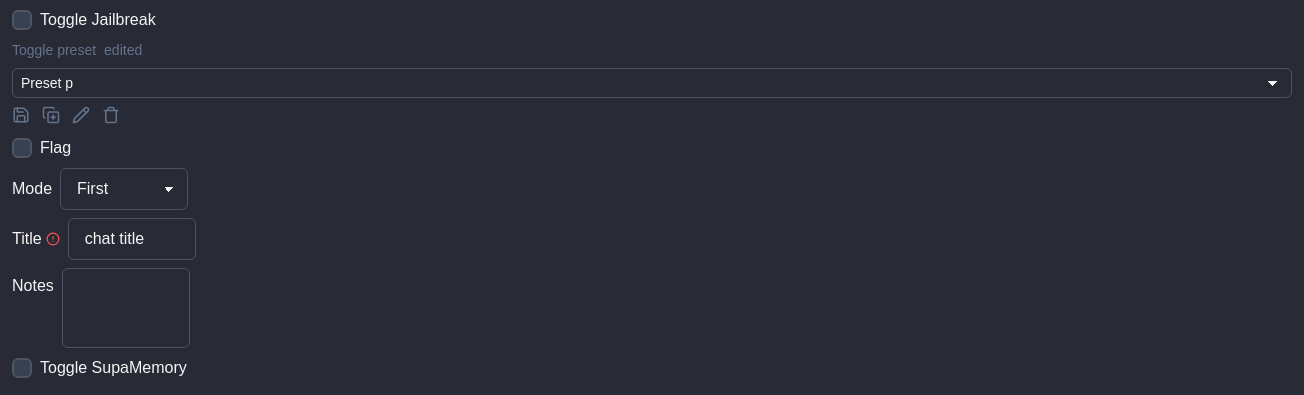
Test: toggle preset panel › prefills Rename and confirms Delete by name, retaining the deleted link and chat values
The image size is (1304, 395).
What coordinates should you click on to do the following:
click the button named "Rename preset"
I would click on:
 (81, 115)
Its box is [72,106,90,124].
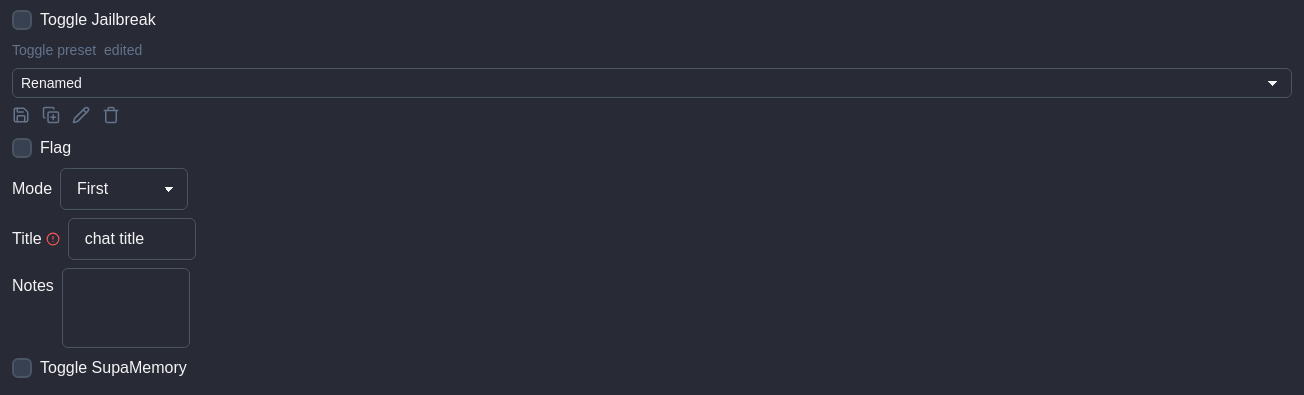
What coordinates should you click on to do the following:
click the button named "Delete preset"
I would click on:
 (111, 115)
Its box is [102,106,120,124].
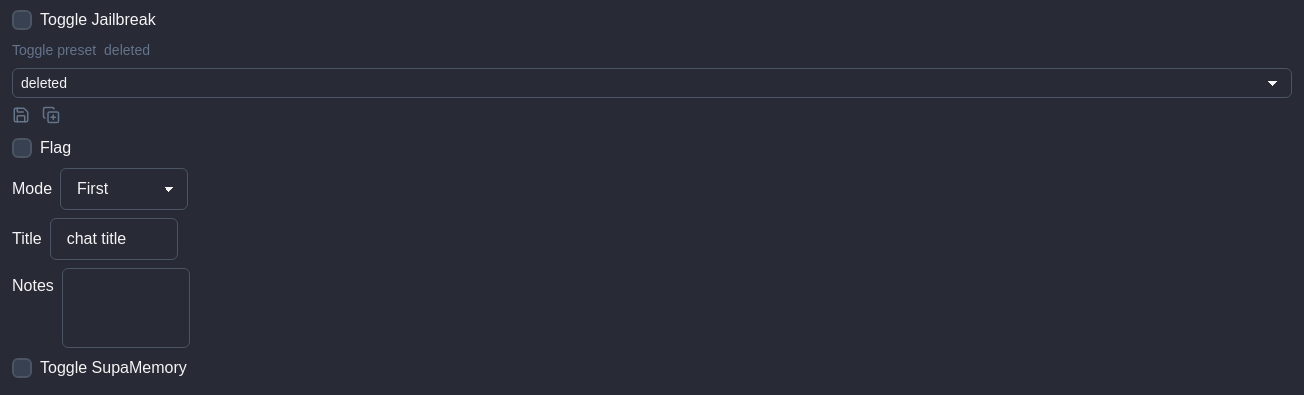
Now the dropdown named "Toggle preset" shows "deleted", box [12,68,1292,98]
Now the text "deleted" is shown, box [104,40,150,60]
